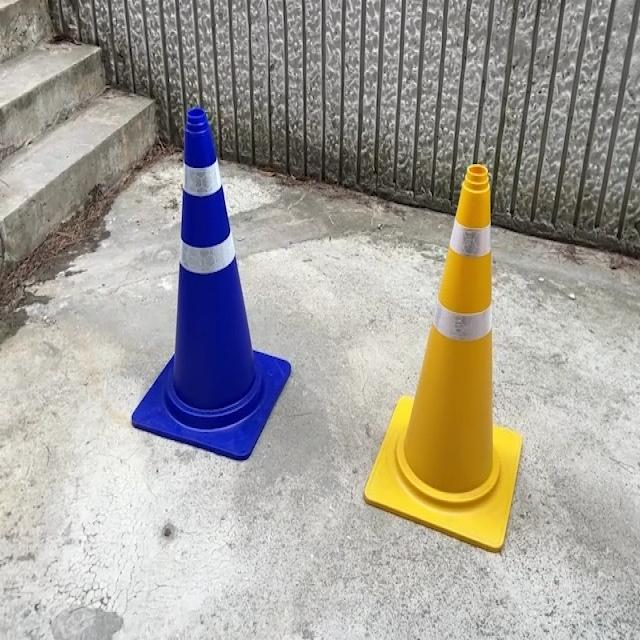b_rub: (132, 107, 291, 459)
y_rub: (365, 164, 523, 551)
